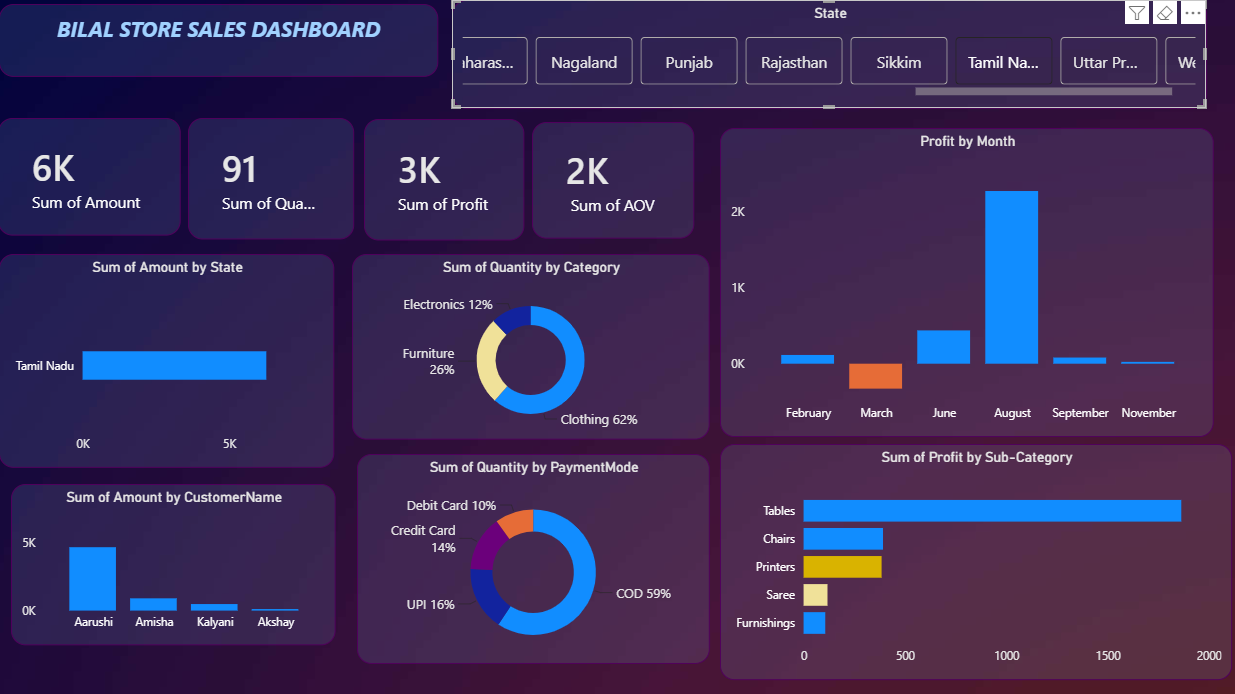

The dashboard page shown, as its layout file describes it:
{"tool":"powerbi","page":{"name":"Page 1","canvas":[1280,720],"ordinal":0},"visuals":[{"type":"textbox","box":[3.6,10.7,452,74.9],"z":0},{"type":"columnChart","title":" Profit by Month","fields":{"Category":["Orders.Order Date.Variation.Date Hierarchy.Month"],"Y":["Sum(Details.Profit)"]},"box":[744.7,138,508,317.6],"z":1000},{"type":"barChart","fields":{"Category":["Details.Sub-Category"],"Y":["Sum(Details.Profit)"]},"box":[744.7,462.8,527,242.7],"z":2000},{"type":"donutChart","fields":{"Category":["Details.Category"],"Y":["Sum(Details.Quantity)"]},"box":[366.2,267.5,367.5,191.2],"z":3000},{"type":"donutChart","fields":{"Y":["Sum(Details.Quantity)"],"Category":["Details.PaymentMode"]},"box":[371.2,473.8,362.5,216.2],"z":4000},{"type":"cardVisual","fields":{"Data":["Sum(Details.Amount)"]},"box":[2.4,127.3,188,121.3],"z":5000},{"type":"cardVisual","fields":{"Data":["Sum(Details.Quantity)"]},"box":[197.5,127.3,171.3,124.9],"z":6000},{"type":"cardVisual","fields":{"Data":["Sum(Details.Profit)"]},"box":[378.3,128.5,165.4,124.9],"z":7000},{"type":"cardVisual","fields":{"Data":["Sum(Details.AOV)"]},"box":[552,132,166.5,120.1],"z":8000},{"type":"barChart","fields":{"Category":["Orders.State"],"Y":["Sum(Details.Amount)"]},"box":[3.6,267.7,345,220.1],"z":9000},{"type":"columnChart","fields":{"Category":["Orders.CustomerName"],"Y":["Sum(Details.Amount)"]},"box":[15,503.8,333.8,166.2],"z":10000},{"type":"advancedSlicerVisual","fields":{"Values":["Orders.State"]},"box":[468.7,5.9,776.8,111.8],"z":11000}]}

Visuals, with their boxes in screenshot pixels (x1, y1, x2, y2), scaled from the page's 1280x720 canvas onto the 1235x694 screenshot:
textbox: <bbox>3, 10, 440, 83</bbox>
" Profit by Month" columnChart: <bbox>719, 133, 1209, 439</bbox>
barChart - Details.Sub-Category x Sum(Details.Profit): <bbox>719, 446, 1227, 680</bbox>
donutChart - Details.Category x Sum(Details.Quantity): <bbox>353, 258, 708, 442</bbox>
donutChart - Sum(Details.Quantity) x Details.PaymentMode: <bbox>358, 457, 708, 665</bbox>
cardVisual - Sum(Details.Amount): <bbox>2, 123, 184, 240</bbox>
cardVisual - Sum(Details.Quantity): <bbox>191, 123, 356, 243</bbox>
cardVisual - Sum(Details.Profit): <bbox>365, 124, 525, 244</bbox>
cardVisual - Sum(Details.AOV): <bbox>533, 127, 693, 243</bbox>
barChart - Orders.State x Sum(Details.Amount): <bbox>3, 258, 336, 470</bbox>
columnChart - Orders.CustomerName x Sum(Details.Amount): <bbox>14, 486, 337, 646</bbox>
advancedSlicerVisual - Orders.State: <bbox>452, 6, 1202, 113</bbox>
